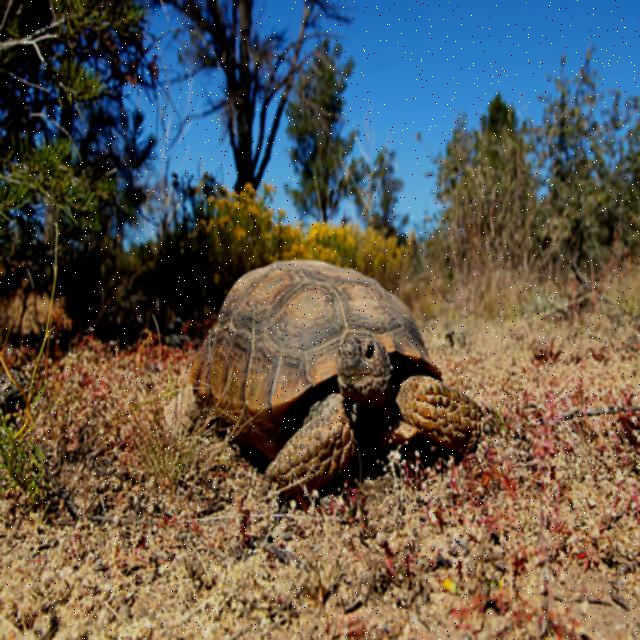tortoise: (181, 253, 505, 503)
